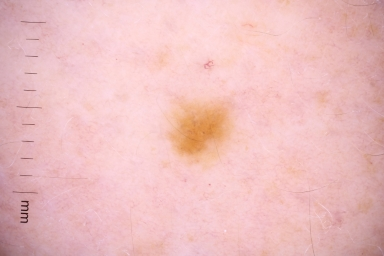melanoma: (166, 105, 231, 155)
